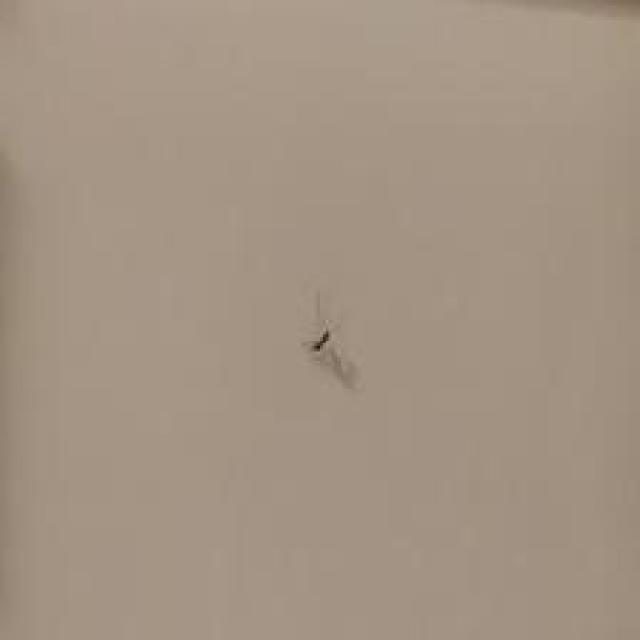Culex: (302, 288, 362, 392)
